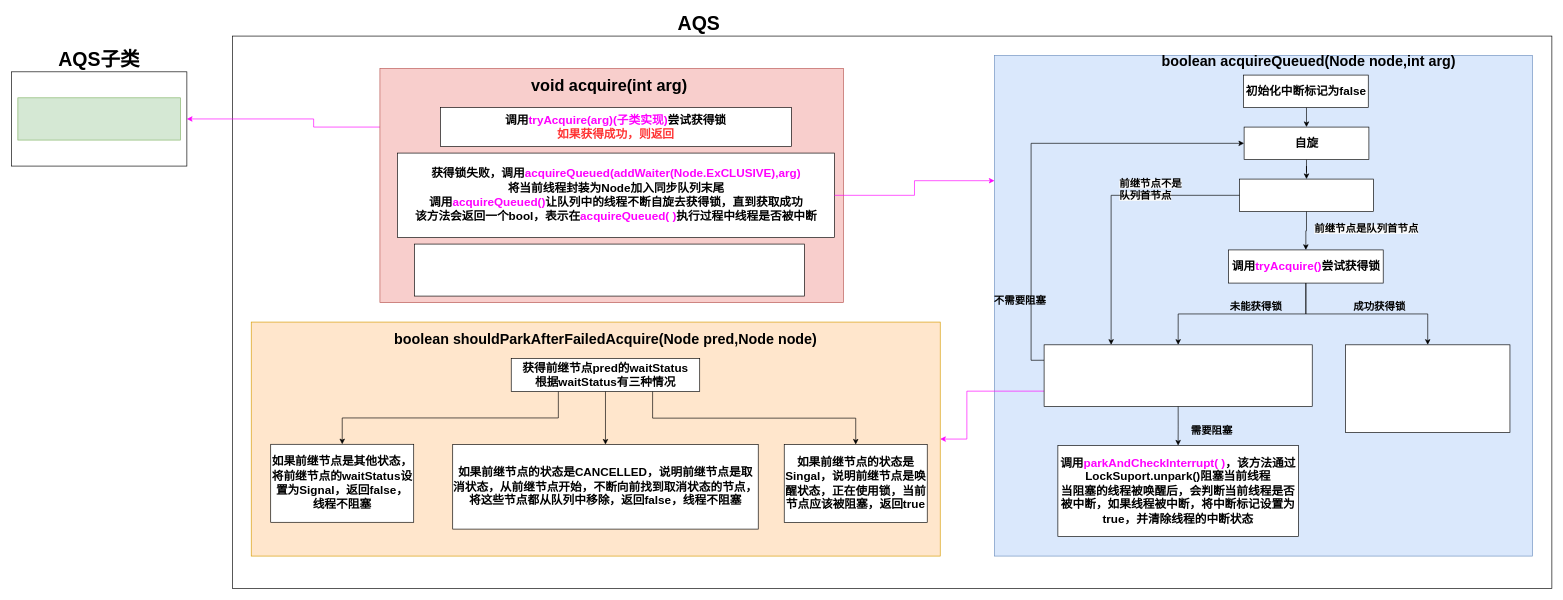
Image size: 1563x600. Some labels were removed from this diagram. The shapes that lost their labels are listed below. From the top down, each one's centre as x and y in pixels, then its label:
pixel 98 118: boolean tryAcquire(int arg)
pixel 1306 195: 获取当前节点的前继节点
pixel 609 269: 如果acquiredQueued()返回true，那么说明在自旋过程中，发生了中断 调用 selfInterrupt( ) 为线程设置中断标记
pixel 1177 375: 调用 shouldParkAfterFailedAcquire(pre,node) ，根据前继节点的状态判断当前节点是否需要阻塞
pixel 1427 388: 将当前节点设置为队列首节点 并将当前节点更新为虚节点(清空数据)， 返回中断标记，结束
